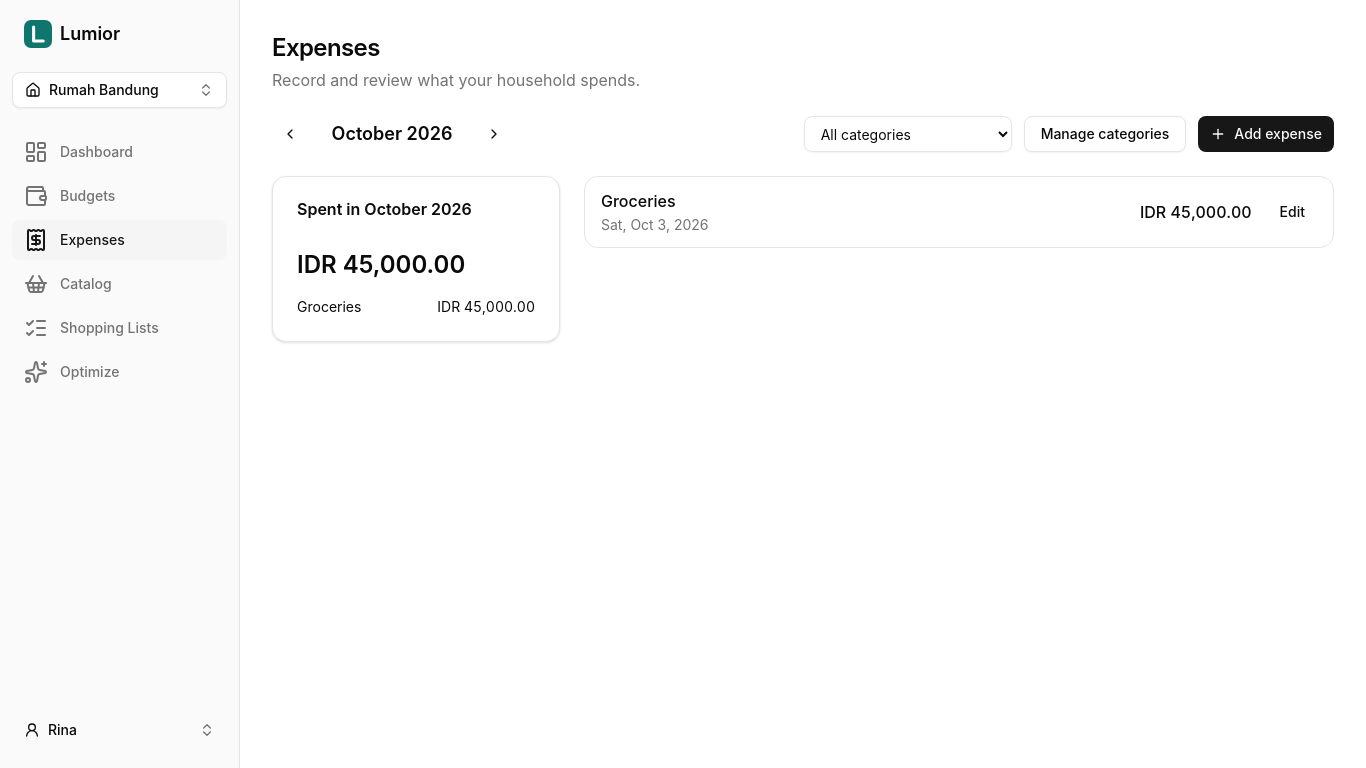
Test: editing an expense › changing the amount updates the list and the totals
This screenshot has width=1366, height=768.
Click the button with aria-label "Edit Groceries expense of Sat, Oct 3, 2026" at [1292, 212], box 1268,196 -> 1317,228
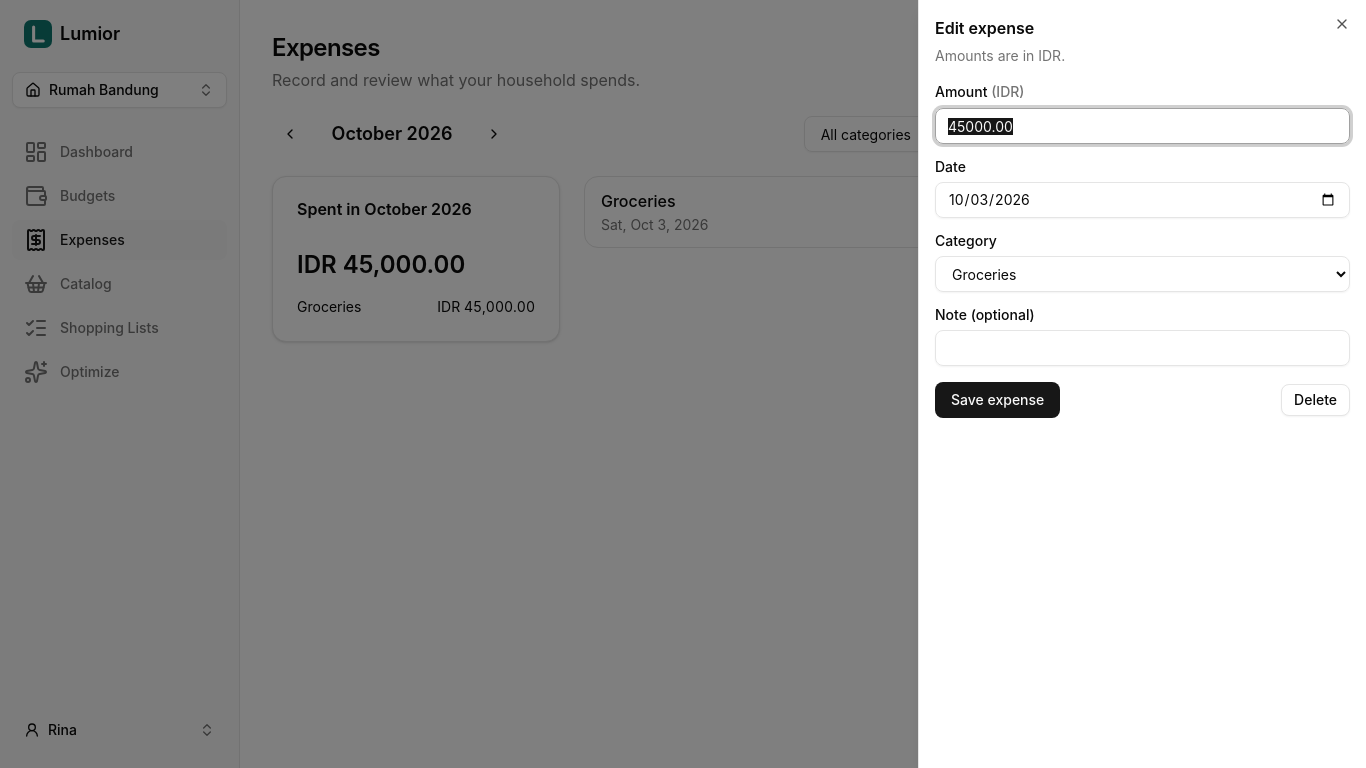
Expected: the field labelled "Amount (IDR)" holds "45000.00"
Replace the text in the field labelled "Amount (IDR)" with "47,500" at [1142, 126], box 935,108 -> 1350,144
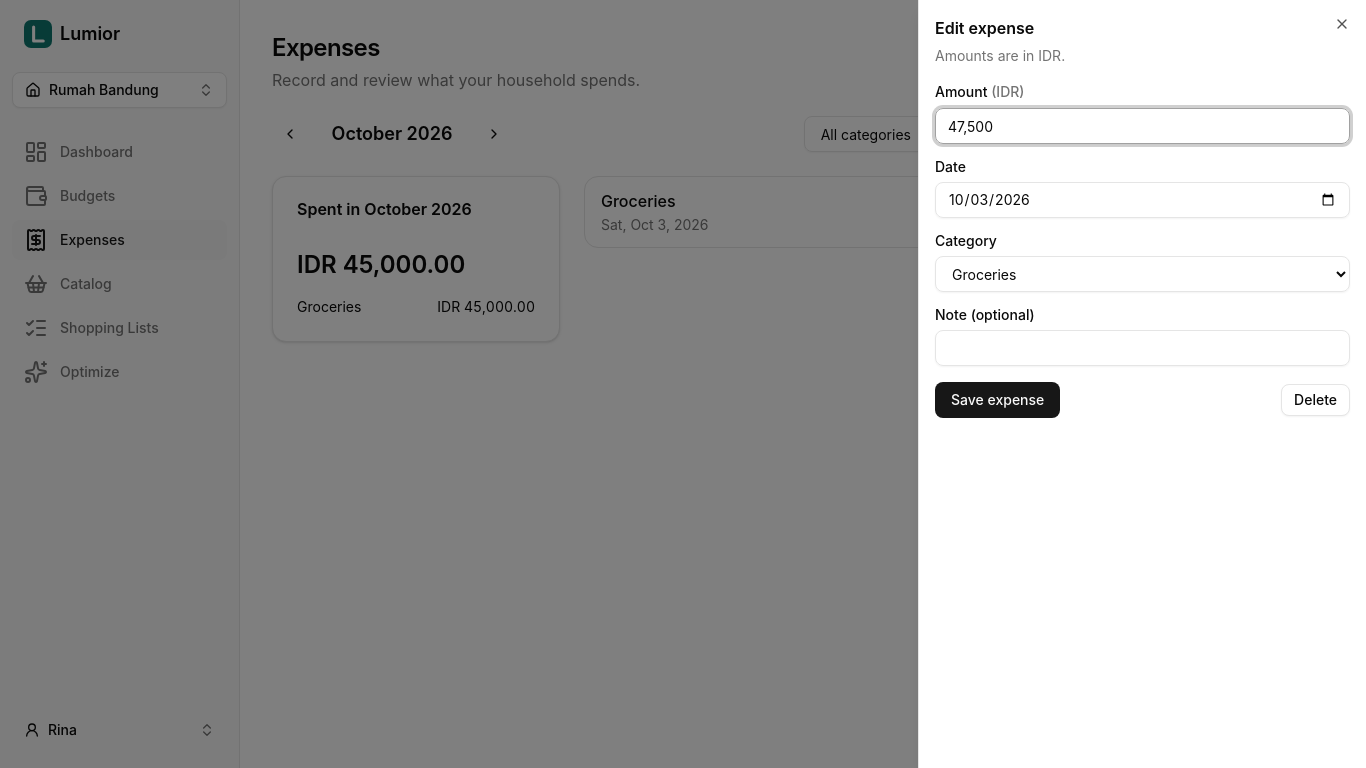
Click the button "Save expense" at [998, 400], box 935,382 -> 1060,418
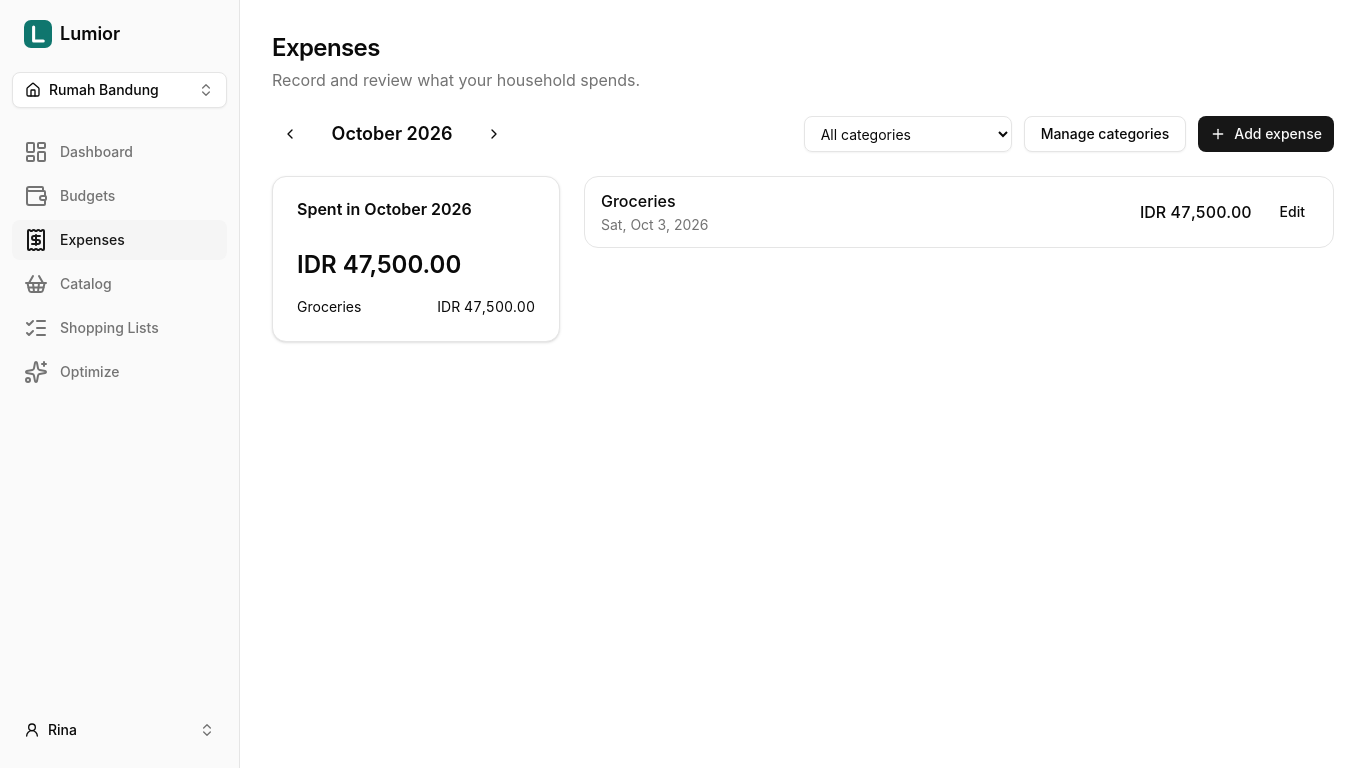
Expected: the 2nd text "IDR 47,500.00" is shown, 297,250 -> 461,279
